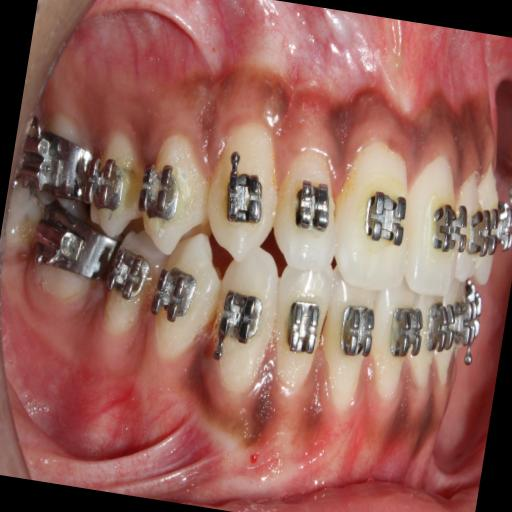correct_brace: (142, 229, 227, 367), (135, 128, 218, 260), (218, 157, 272, 233), (360, 186, 412, 252), (426, 192, 474, 263), (146, 263, 202, 323), (216, 285, 268, 349), (278, 296, 326, 362), (288, 176, 334, 234)
incorrect_brace: (262, 136, 350, 286), (260, 258, 342, 388), (134, 152, 186, 228)
